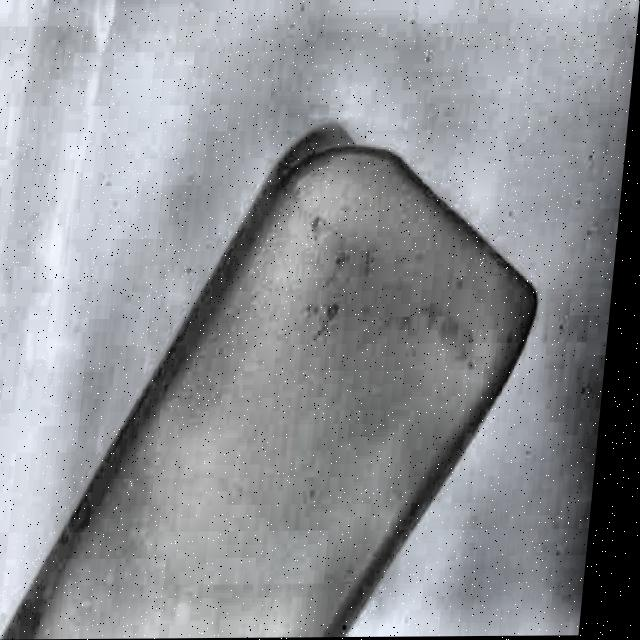plastic: (0, 118, 555, 640)
